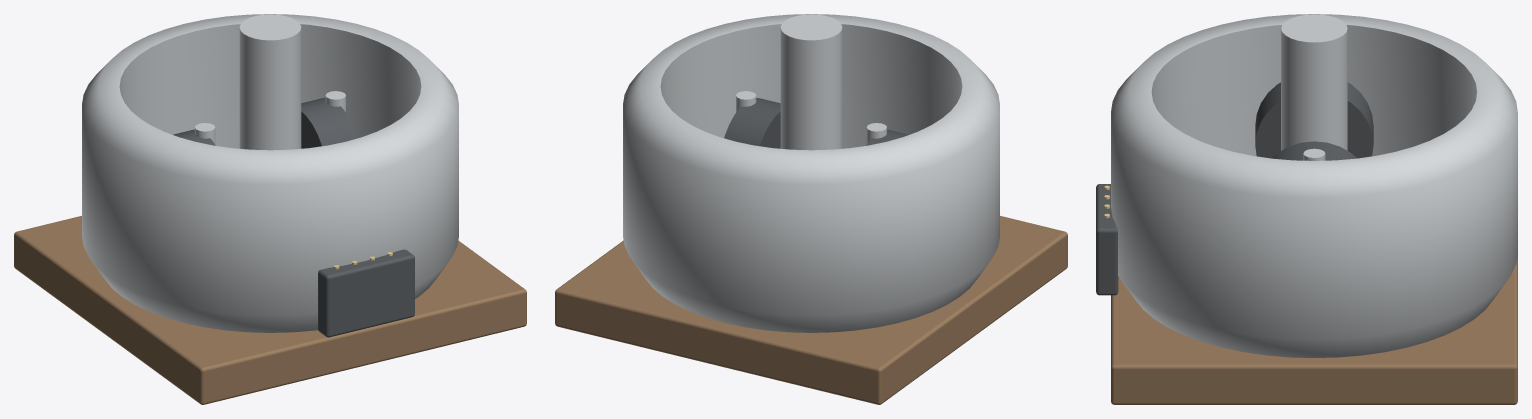
Rendered from chocolate-making-and-confectionery-stone-chocolate-mel-3d0d4f32__39139.glb.
3 renders of one model, left to right at view 1: azimuth 30°, elevation 25°; view 2: azimuth 150°, elevation 25°; view 3: azimuth 270°, elevation 25°, orthographic. The views are drawn at different scales.
Parts seen in each view (by area): view 1: stone-chocolate-melanger; view 2: stone-chocolate-melanger; view 3: stone-chocolate-melanger.
Boxes of the visible parts, x1,y1,x2,y2 form: stone-chocolate-melanger: (14,14,526,404); stone-chocolate-melanger: (555,14,1067,404); stone-chocolate-melanger: (1096,14,1517,404).
Size of the model in its own units: 1.1 by 0.87 by 1.14.
